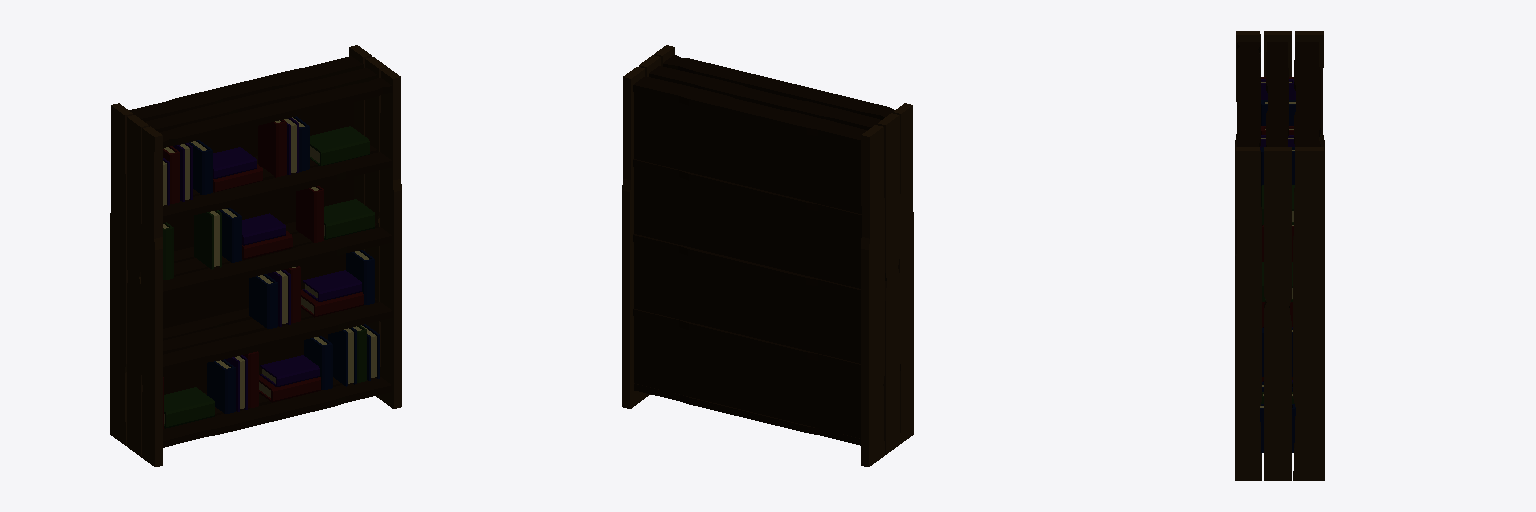
The model's file is Bookcase_Full_Cylinder.obj.
The picture shows the model from 3 angles: view 1: azimuth 30°, elevation 25°; view 2: azimuth 150°, elevation 25°; view 3: azimuth 270°, elevation 25°; orthographic projection.
Visible parts, largest first — view 1: Bookcase_Full_Cylinder.044; view 2: Bookcase_Full_Cylinder.044; view 3: Bookcase_Full_Cylinder.044.
Part boxes in pixels (x1,y1,x2,y2): Bookcase_Full_Cylinder.044: (110,45,401,466); Bookcase_Full_Cylinder.044: (622,45,913,466); Bookcase_Full_Cylinder.044: (1235,31,1324,480).
Size of the model in its own units: 2.08 by 2.65 by 0.6582.